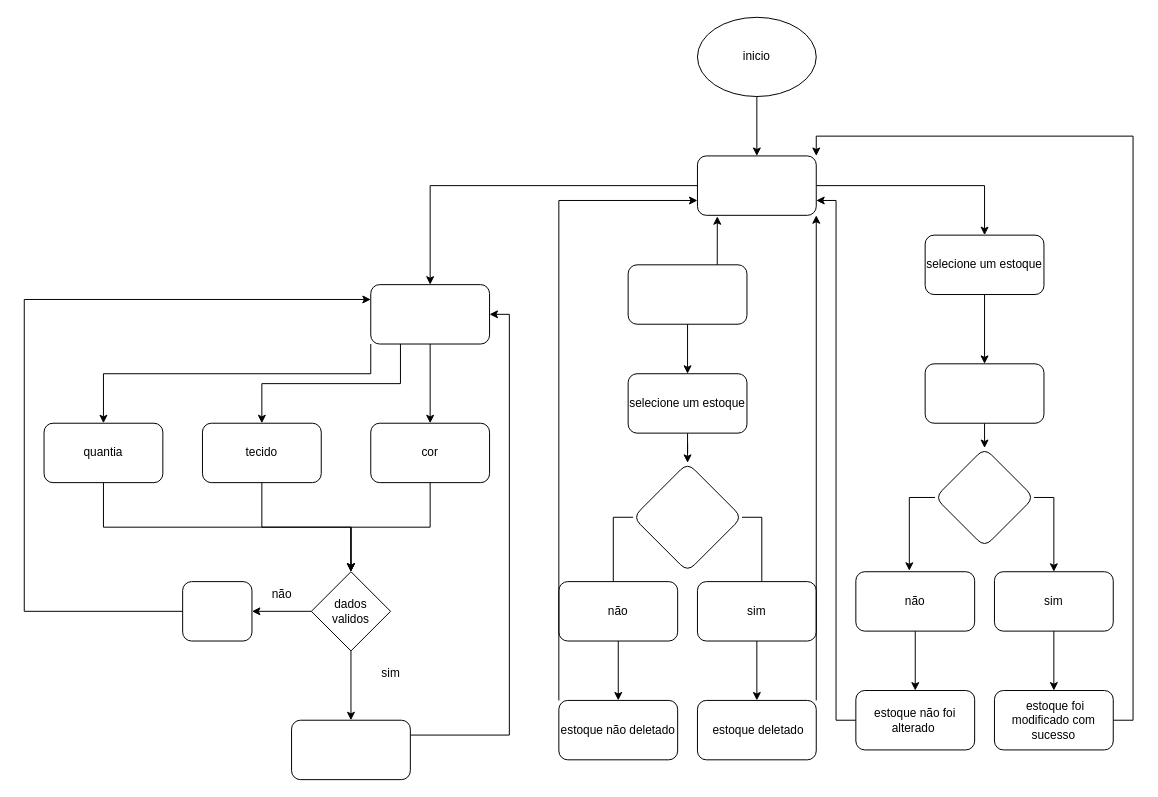
The diagram is 1158 pixels wide and 797 high, and some of its shapes have lost their labels. The shapes that lost their labels are listed below. From the top down, each one's centre as x and y in pixels, then its label:
At pixel 756 185: "banco de dados estoque".
At pixel 430 314: "cadastrar estoque".
At pixel 687 294: "deletar estoque".
At pixel 984 393: "modificar estoque".
At pixel 687 517: "deletar esse estoque?".
At pixel 984 497: "modificar estoque ?".
At pixel 217 611: "erro".
At pixel 350 749: "cadastro realizado".
